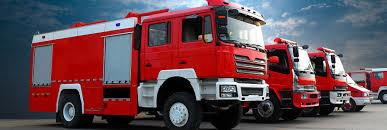Fire-engine: (28, 6, 257, 130)
